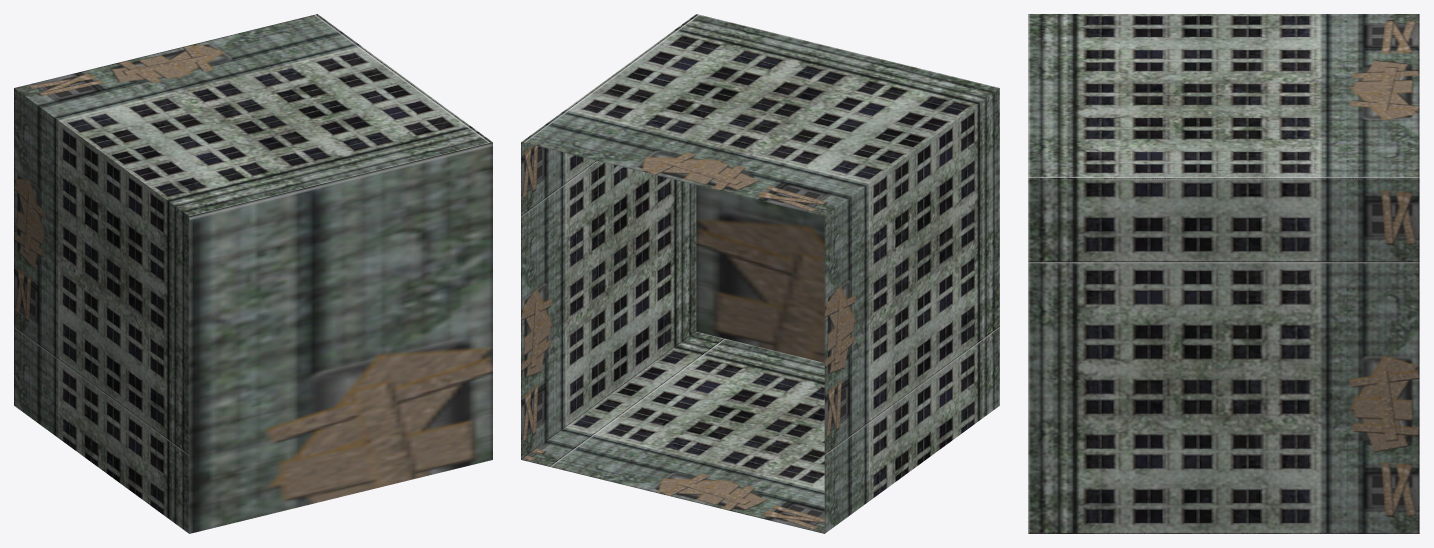
The model's file is building24x24x24_wtf.obj.
3 renders of one model, left to right at view 1: azimuth 30°, elevation 25°; view 2: azimuth 150°, elevation 25°; view 3: azimuth 270°, elevation 25°, orthographic. The views are drawn at different scales.
Visible parts, largest first — view 1: group1; view 2: group1; view 3: group1.
Part boxes in pixels (<box>): group1: <box>14,14,492,533</box>; group1: <box>521,14,999,533</box>; group1: <box>1028,14,1419,533</box>.
Bounding box in the file's own units: 660 × 660 × 660.
